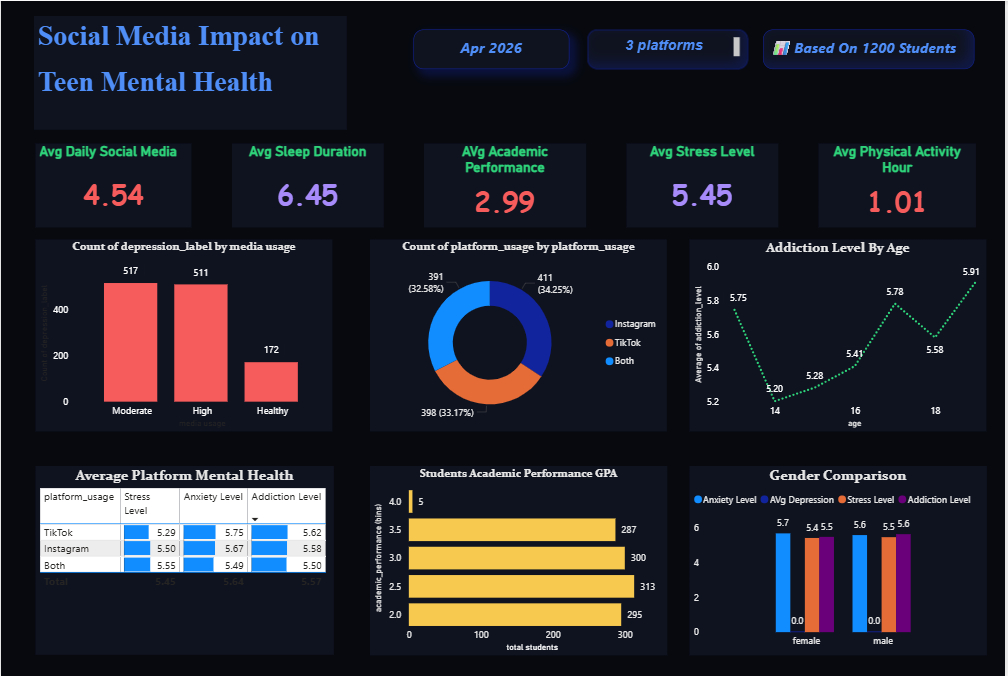

What the dashboard file says about the page in this screenshot:
{"tool":"powerbi","page":{"name":"Page 1","canvas":[1300,880],"ordinal":0},"visuals":[{"type":"textbox","box":[42.5,19.8,405.4,147.4],"z":0},{"type":"textbox","box":[988.4,37.8,274,51],"z":1000},{"type":"textbox","box":[759.7,37.8,207.9,51],"z":2000},{"type":"textbox","box":[534.8,37.8,202.2,51],"z":3000},{"type":"cardVisual","title":"Avg Daily Social Media","fields":{"Data":["Social Media Impact on Teen Mental Health.avg daily screen time"]},"box":[45.4,184,202.2,108.9],"z":4000},{"type":"cardVisual","title":"Avg Sleep Duration","fields":{"Data":["Social Media Impact on Teen Mental Health.Avg Sleep Duration"]},"box":[300,184,196.4,108.9],"z":5000},{"type":"cardVisual","title":"AVg Academic Performance","fields":{"Data":["Social Media Impact on Teen Mental Health.AVg Academic Performance"]},"box":[548.9,184,210,108.9],"z":6000},{"type":"cardVisual","title":"Avg Stress Level","fields":{"Data":["Social Media Impact on Teen Mental Health.Avg Stress Level"]},"box":[811.3,184,196.4,108.9],"z":7000},{"type":"cardVisual","title":"Avg Physical Activity Hour","fields":{"Data":["Social Media Impact on Teen Mental Health.Avg Physical Activity"]},"box":[1060.2,184,204.1,108.9],"z":8000},{"type":"columnChart","fields":{"Y":["CountNonNull(Social Media Impact on Teen Mental Health.depression_label)"],"Category":["Social Media Impact on Teen Mental Health.media usage"]},"box":[44.7,309.1,384.9,248.8],"z":9000},{"type":"donutChart","fields":{"Category":["Social Media Impact on Teen Mental Health.platform_usage"],"Y":["CountNonNull(Social Media Impact on Teen Mental Health.platform_usage)"]},"box":[478.2,309.1,384.9,248.8],"z":10000},{"type":"tableEx","title":"Average Platform Mental Health","fields":{"Values":["Social Media Impact on Teen Mental Health.platform_usage","Social Media Impact on Teen Mental Health.Avg Stress Level","Social Media Impact on Teen Mental Health.avg anxiety","Social Media Impact on Teen Mental Health.avg addiction level"]},"box":[44.7,602.7,386.9,245],"z":11000},{"type":"lineChart","title":"Addiction Level By Age","fields":{"Y":["Avg(Social Media Impact on Teen Mental Health.addiction_level)"],"Category":["Social Media Impact on Teen Mental Health.age"]},"box":[892.3,309.1,384.9,248.8],"z":12000},{"type":"barChart","title":"Students Academic Performance GPA","fields":{"Category":["Social Media Impact on Teen Mental Health.academic_performance (bins)"],"Y":["Social Media Impact on Teen Mental Health.total students"]},"box":[478,603,385,245],"z":13000},{"type":"clusteredColumnChart","title":"Gender Comparison","fields":{"Y":["Social Media Impact on Teen Mental Health.Anxiety Level","Social Media Impact on Teen Mental Health.AVg Depression","Social Media Impact on Teen Mental Health.Stress Level","Social Media Impact on Teen Mental Health.Addiction Level"],"Category":["Social Media Impact on Teen Mental Health.gender"]},"box":[892,603,385,245],"z":14000}]}

Visuals, with their boxes in screenshot pixels (x1, y1, x2, y2), scaled from the page's 1300x880 canvas onto the 1008x676 screenshot:
textbox: crop(33, 15, 347, 128)
textbox: crop(766, 29, 979, 68)
textbox: crop(589, 29, 750, 68)
textbox: crop(415, 29, 571, 68)
"Avg Daily Social Media" cardVisual: crop(35, 141, 192, 225)
"Avg Sleep Duration" cardVisual: crop(233, 141, 385, 225)
"AVg Academic Performance" cardVisual: crop(426, 141, 588, 225)
"Avg Stress Level" cardVisual: crop(629, 141, 781, 225)
"Avg Physical Activity Hour" cardVisual: crop(822, 141, 980, 225)
columnChart - CountNonNull(Social Media Impact on Teen Mental Health.depression_label) x Social Media Impact on Teen Mental Health.media usage: crop(35, 237, 333, 429)
donutChart - Social Media Impact on Teen Mental Health.platform_usage x CountNonNull(Social Media Impact on Teen Mental Health.platform_usage): crop(371, 237, 669, 429)
"Average Platform Mental Health" tableEx: crop(35, 463, 335, 651)
"Addiction Level By Age" lineChart: crop(692, 237, 990, 429)
"Students Academic Performance GPA" barChart: crop(371, 463, 669, 651)
"Gender Comparison" clusteredColumnChart: crop(692, 463, 990, 651)
